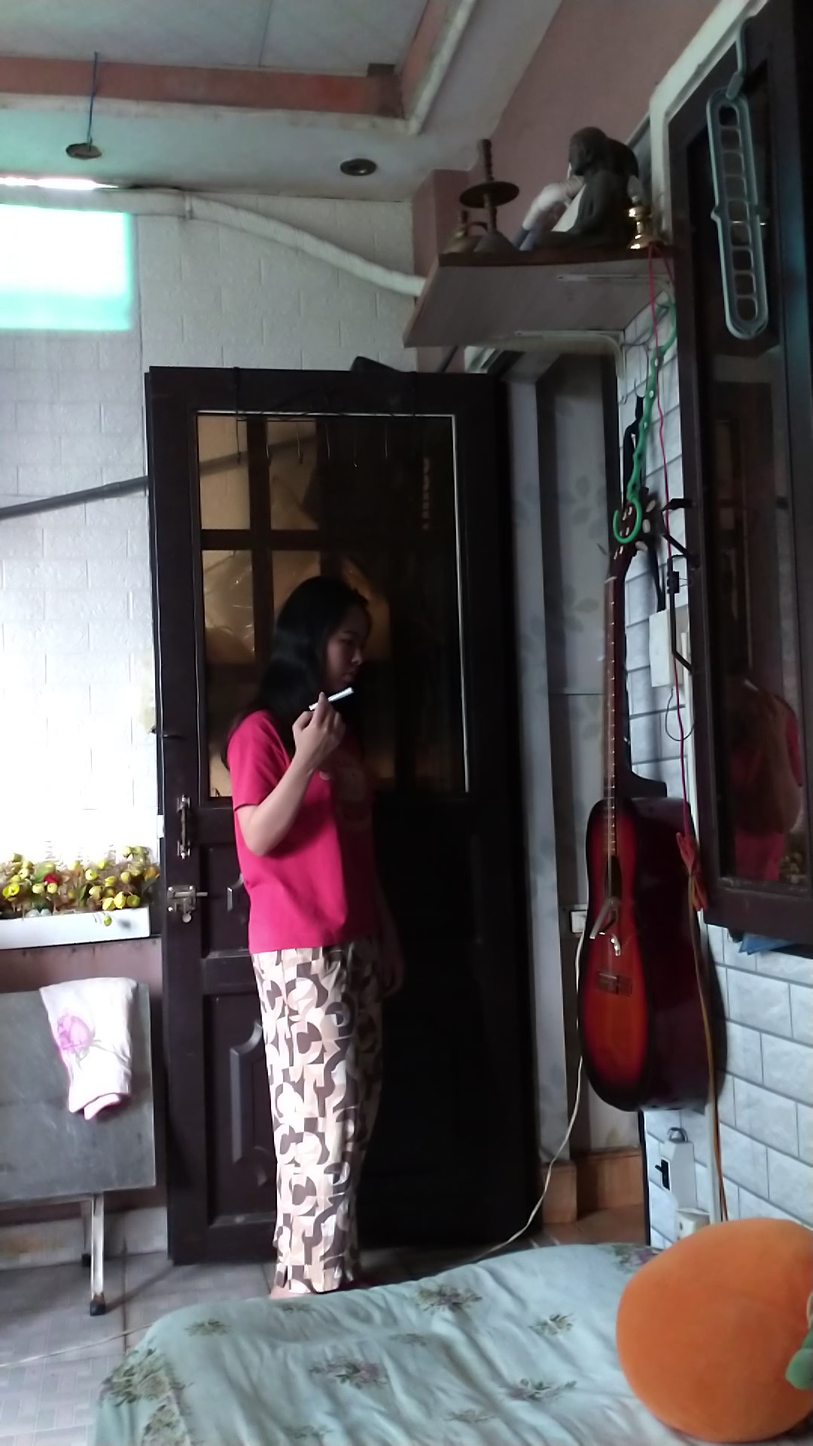cigarette: (324, 685, 358, 706)
person: (224, 563, 408, 1308)
